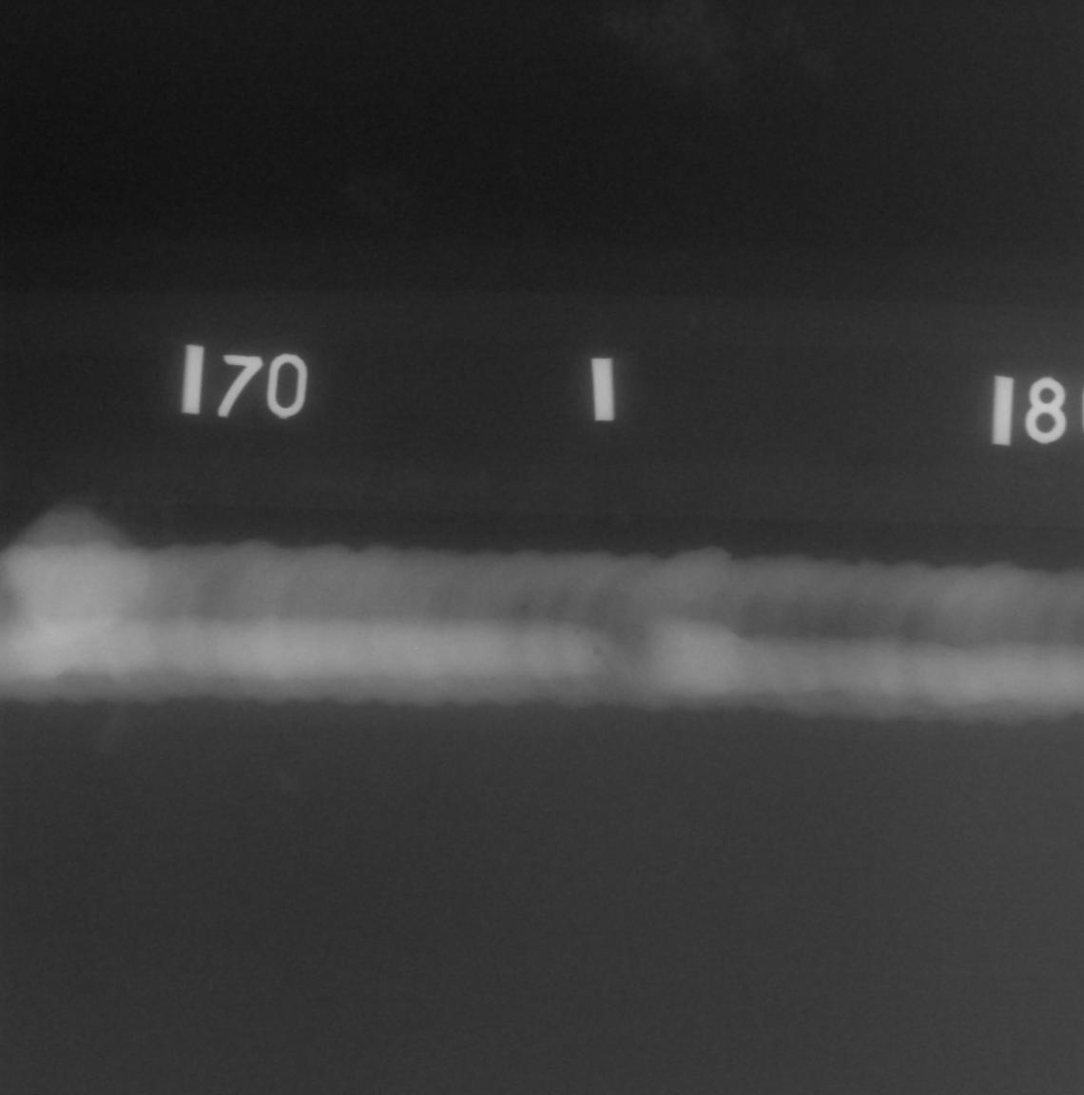Pore/Porosity: (593, 647, 601, 655), (519, 605, 528, 612), (968, 639, 973, 645), (574, 630, 580, 635)
